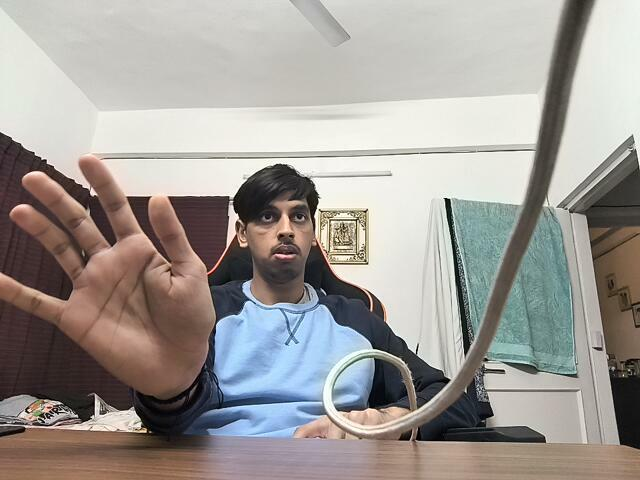STOP: (0, 151, 226, 404)
